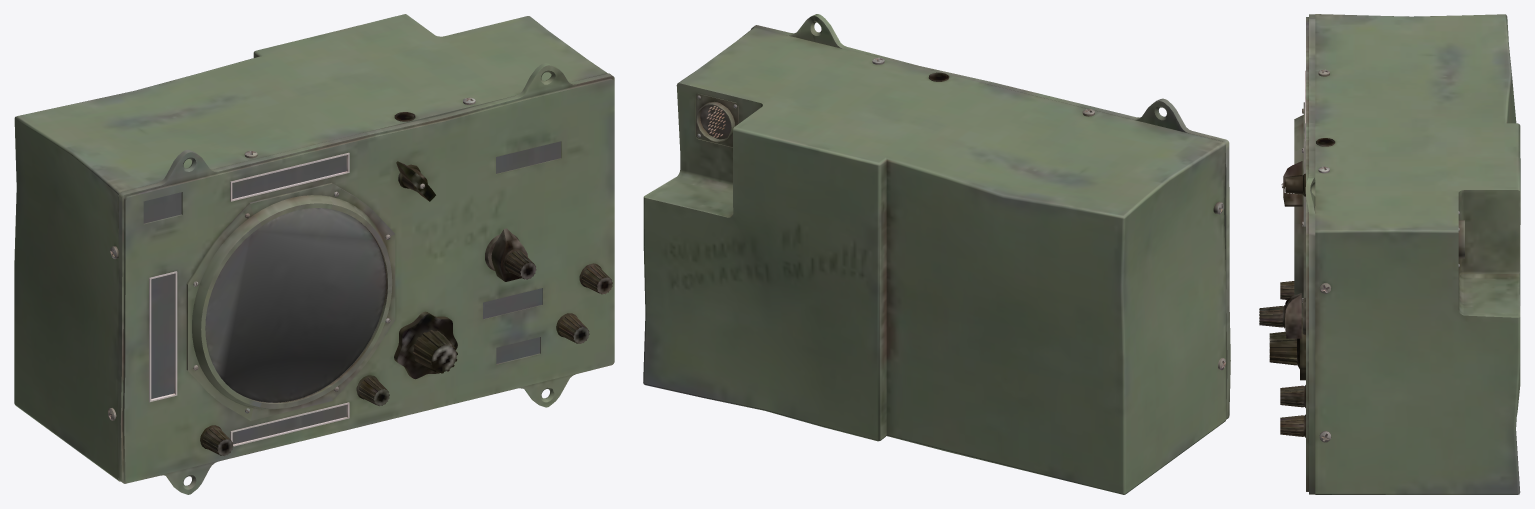
The model's file is vintage_spacecraft_instrument.glb.
3 views of the same model, side by side, from view 1: azimuth 30°, elevation 25°; view 2: azimuth 150°, elevation 25°; view 3: azimuth 270°, elevation 25° (orthographic). The views are drawn at different scales.
Visible parts, largest first — view 1: vintage_spacecraft_instrument; view 2: vintage_spacecraft_instrument; view 3: vintage_spacecraft_instrument.
Boxes of the visible parts, box(x1,y1,x2,y2) form: vintage_spacecraft_instrument: box(14, 14, 614, 494); vintage_spacecraft_instrument: box(643, 14, 1230, 494); vintage_spacecraft_instrument: box(1259, 14, 1520, 494).
Bounding box in the file's own units: 0.4103 × 0.2693 × 0.2044.
Materials: 2 (2 with a texture image).
